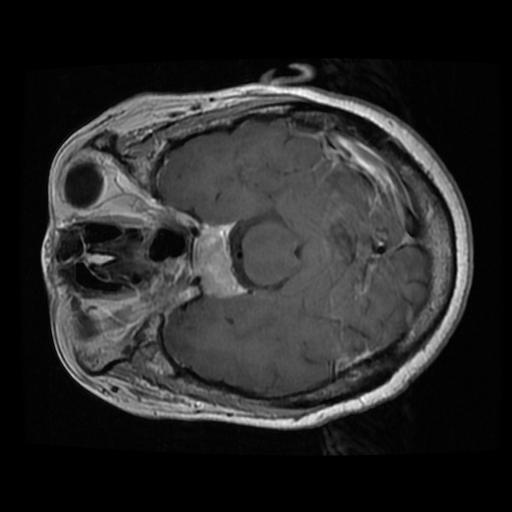pituitary tumour: (192, 224, 239, 297)
